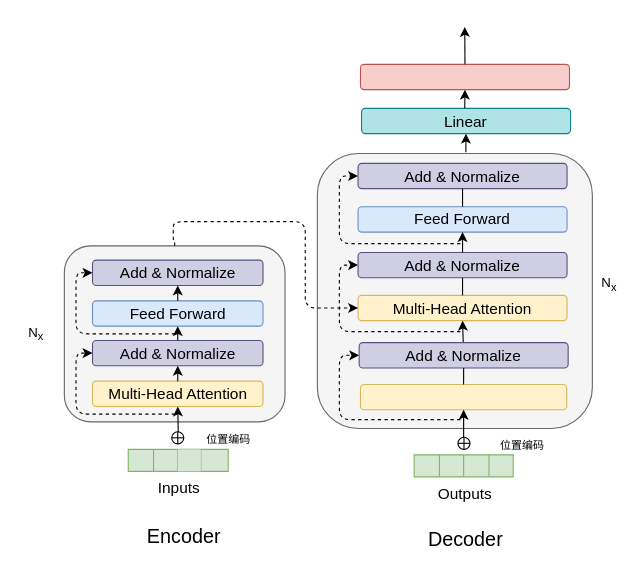
Some shapes in this 644 by 575 pixel diagram are drawn without their labels. Each missing label, with the box of its shape:
Masked Multi-Head Attention: (359, 383, 567, 410)
Softmax: (359, 63, 569, 90)
